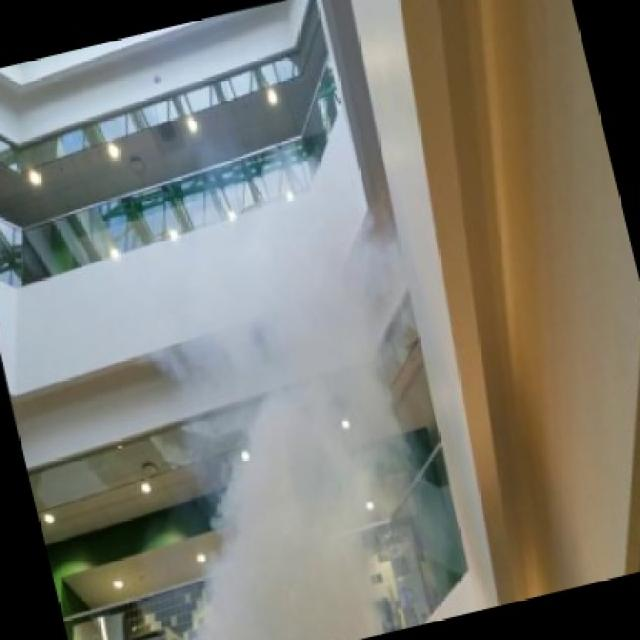smoke: (128, 191, 409, 558)
